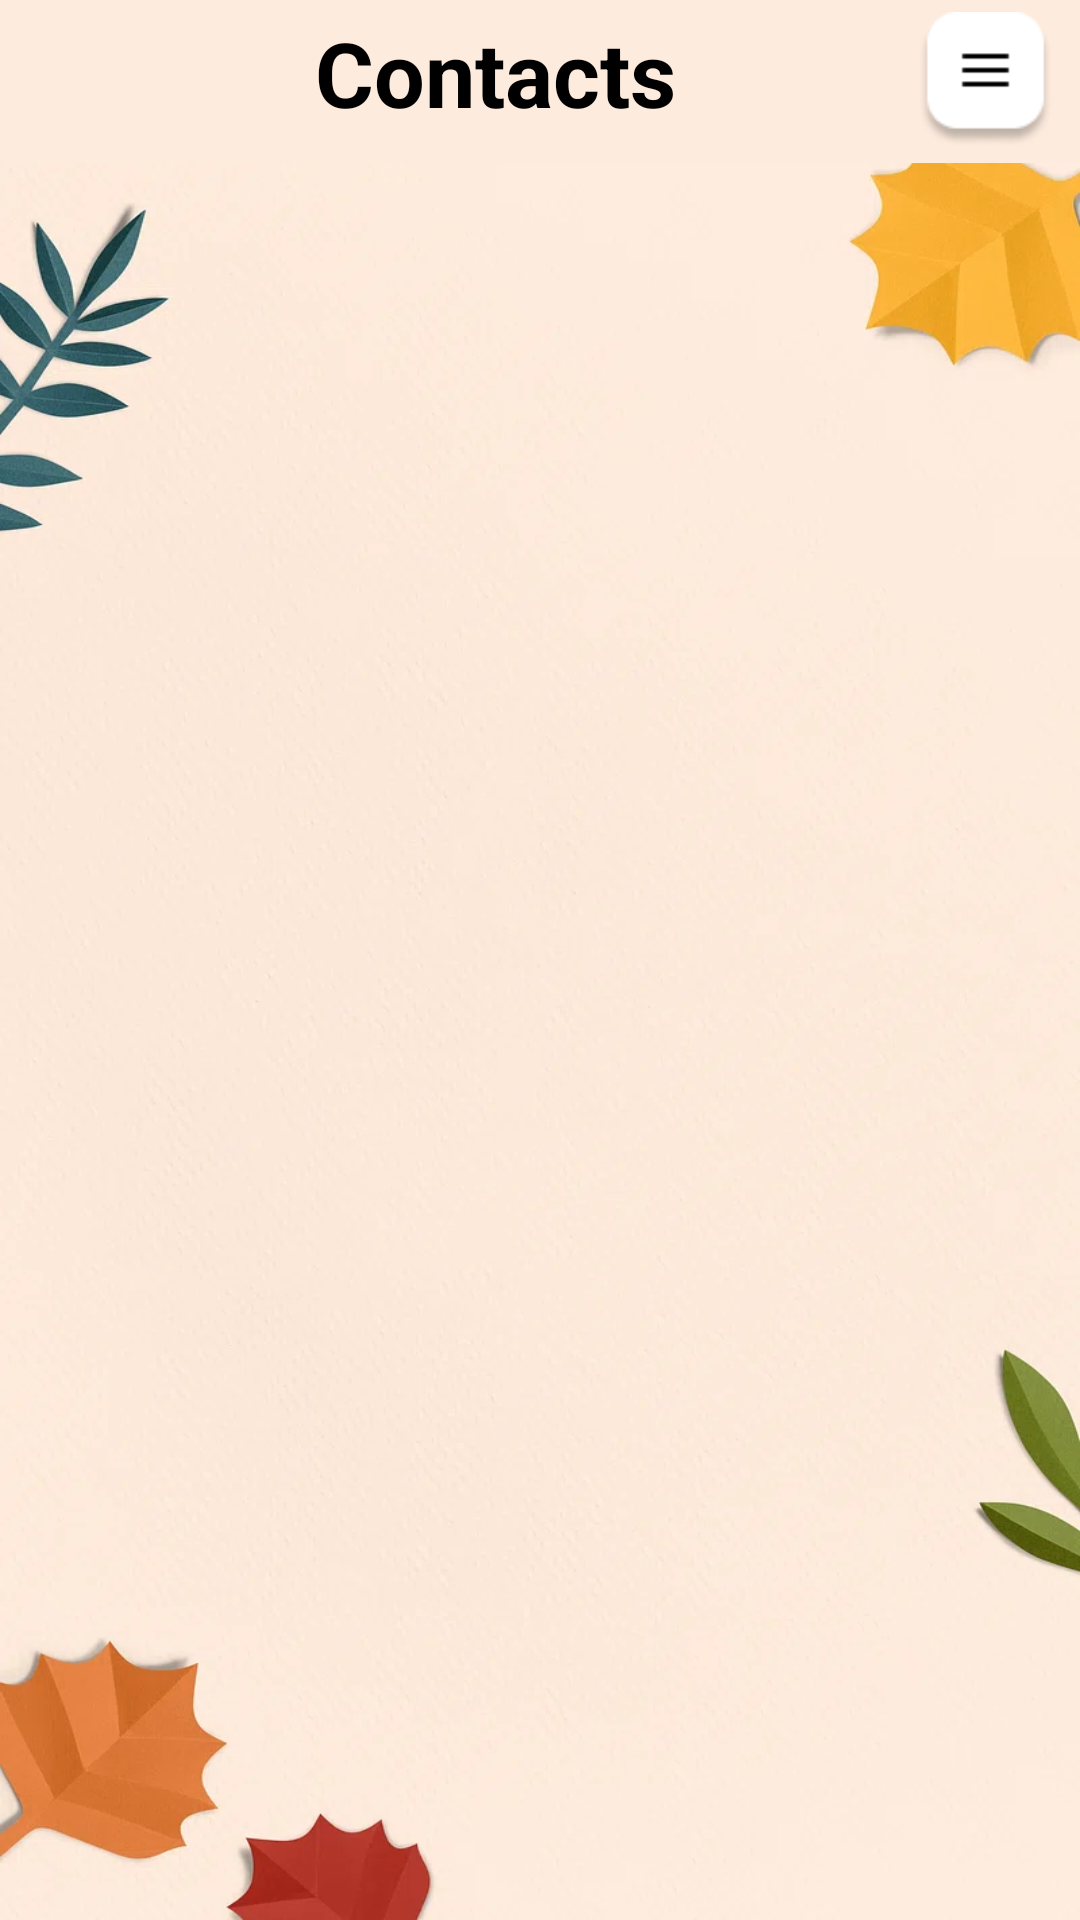

Icon click points for this 1080 × 1920 phone screenshot, format (x=x, y=y):
more: (x=985, y=75)
